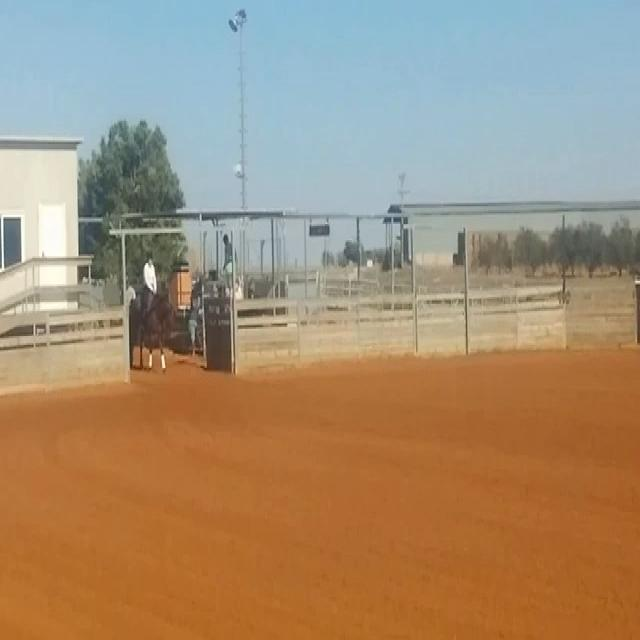horse: (124, 281, 178, 373)
